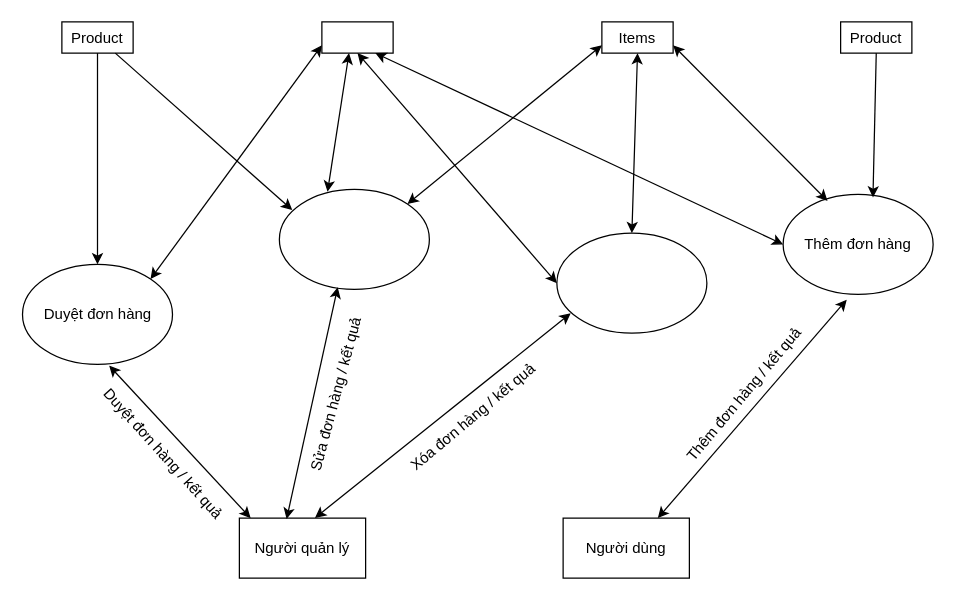
Some shapes in this 955 by 600 pixel diagram are drawn without their labels. Each missing label, with the box of its shape:
Order: (321, 21, 393, 53)
Sửa đơn hàng: (278, 188, 429, 289)
Xóa đơn hàng: (556, 232, 707, 333)
